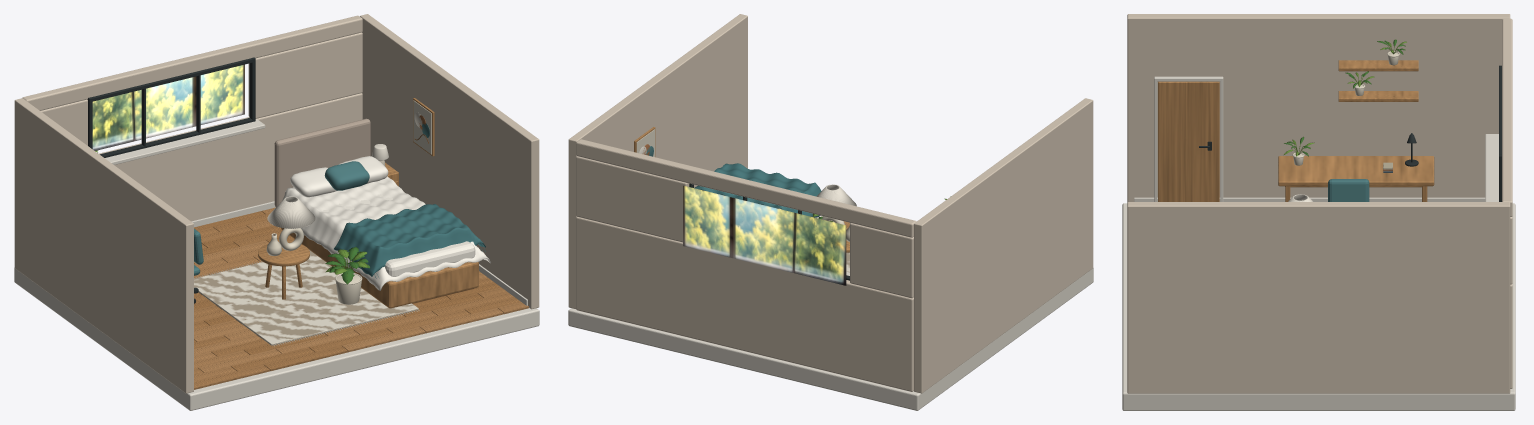
Rendered from 02_comfort.glb.
The picture shows the model from 3 angles, left to right: view 1: azimuth 30°, elevation 25°; view 2: azimuth 150°, elevation 25°; view 3: azimuth 270°, elevation 25°; orthographic projection. The views are drawn at different scales.
Visible parts, largest first — view 1: Left wall, Right wall, Rear wall below window, Diorama foundation, Patterned rug, Window garden backdrop, Rear wall right pier, Rear wall above window, White duvet with modeled folds, Teal throw with hanging edges, Upholstered headboard, Bed structural base (+26 smaller); view 2: Left wall, Rear wall below window, Right wall, Window garden backdrop, Diorama foundation, Rear wall right pier, Rear wall above window, Rear wall left pier, Teal throw with hanging edges; view 3: Right wall, Left wall, Diorama foundation, Door leaf, Oak desk top, Rear wall above window, Left skirting, Desk chair back, Window sill, Comfort wall shelf.001, Comfort wall shelf, Door jamb.001 (+2 smaller).
Boxes of the visible parts, <box> form: Left wall: <box>14,98,193,393</box>; Right wall: <box>360,14,539,309</box>; Rear wall below window: <box>99,93,362,221</box>; Diorama foundation: <box>14,268,539,410</box>; Patterned rug: <box>194,250,418,345</box>; Window garden backdrop: <box>92,64,244,150</box>; Rear wall right pier: <box>248,32,362,118</box>; Rear wall above window: <box>22,15,362,110</box>; White duvet with modeled folds: <box>282,176,490,290</box>; Teal throw with hanging edges: <box>334,204,485,276</box>; Upholstered headboard: <box>274,118,370,206</box>; Bed structural base: <box>281,227,478,308</box>; Left wall: <box>914,98,1093,393</box>; Rear wall below window: <box>576,216,913,391</box>; Right wall: <box>568,14,747,308</box>; Window garden backdrop: <box>683,185,846,285</box>; Diorama foundation: <box>568,268,1093,410</box>; Rear wall right pier: <box>576,156,689,242</box>; Rear wall above window: <box>576,139,916,237</box>; Rear wall left pier: <box>850,223,913,298</box>; Teal throw with hanging edges: <box>694,163,821,217</box>; Right wall: <box>1127,202,1510,393</box>; Left wall: <box>1127,14,1510,202</box>; Diorama foundation: <box>1122,203,1515,410</box>; Door leaf: <box>1158,81,1219,201</box>; Oak desk top: <box>1278,156,1434,186</box>; Rear wall above window: <box>1502,18,1512,216</box>; Left skirting: <box>1134,197,1485,201</box>; Desk chair back: <box>1328,179,1369,201</box>; Window sill: <box>1485,134,1498,201</box>; Comfort wall shelf.001: <box>1338,60,1418,71</box>; Comfort wall shelf: <box>1338,91,1418,101</box>; Door jamb.001: <box>1220,81,1223,201</box>.
Size of the model in its own units: 6.72 by 3.36 by 5.86.
28 materials, 9 textured.
